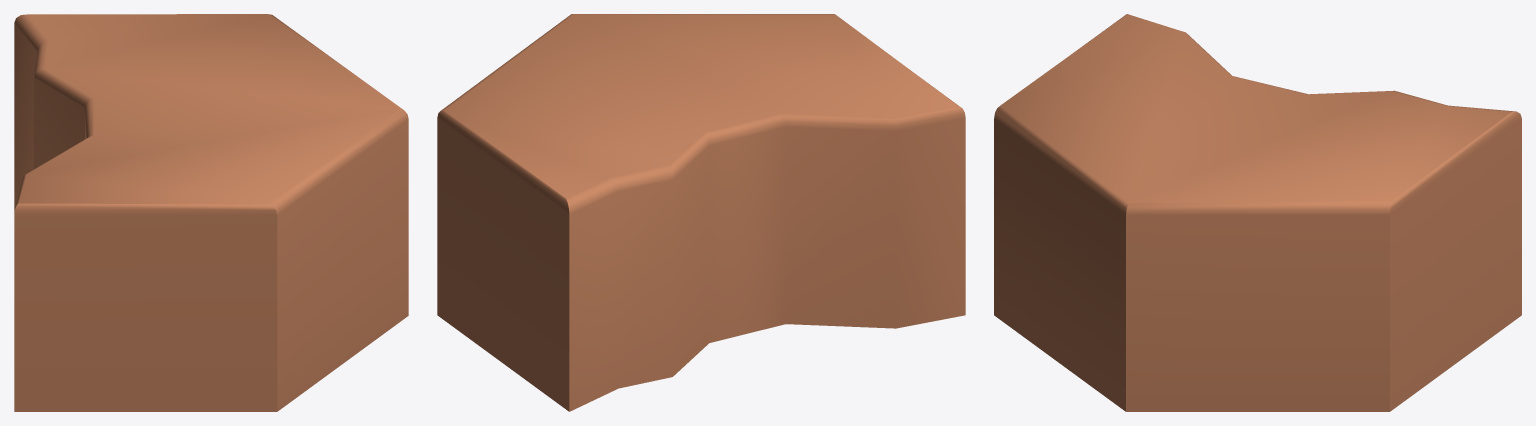
File: hex_rock_waterD_empty.glb
3 renders of one model, left to right at view 1: azimuth 30°, elevation 25°; view 2: azimuth 150°, elevation 25°; view 3: azimuth 270°, elevation 25°, orthographic.
Visible parts, largest first — view 1: hex_rock_waterD_empty; view 2: hex_rock_waterD_empty; view 3: hex_rock_waterD_empty.
Part boxes in pixels (left/top/right/bottom): hex_rock_waterD_empty: left=14, top=14, right=408, bottom=411; hex_rock_waterD_empty: left=437, top=14, right=965, bottom=411; hex_rock_waterD_empty: left=994, top=14, right=1521, bottom=411.
Bounding box in the file's own units: 2 × 1 × 2.31.
